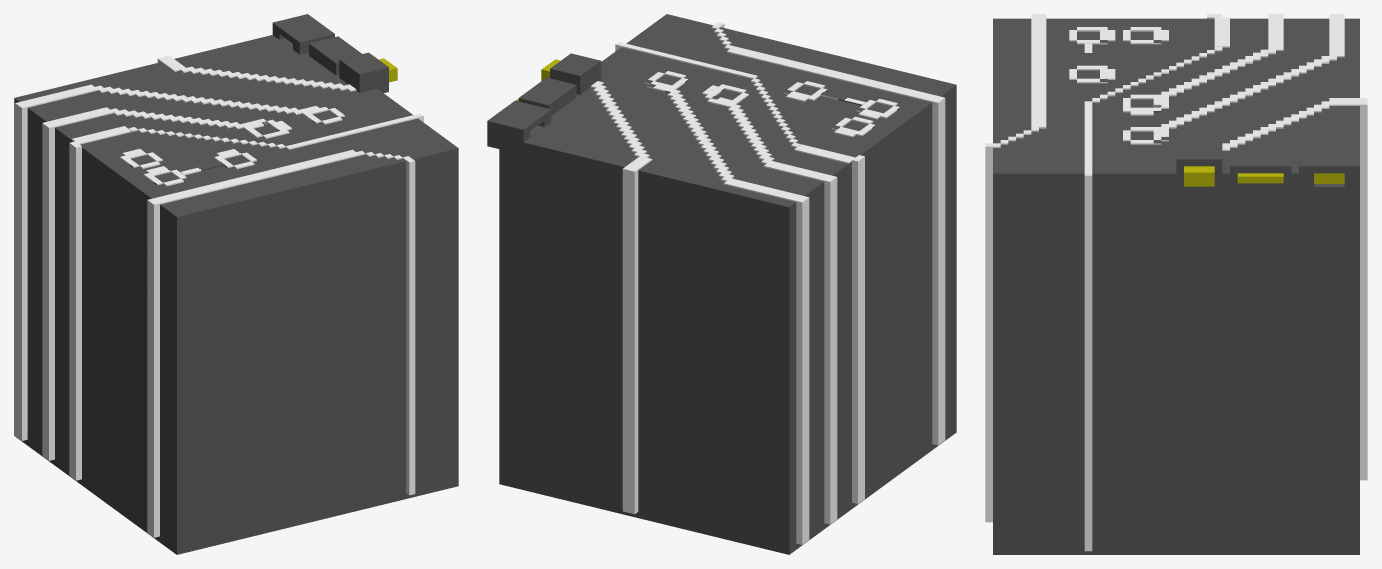
File: tutorialStage.fbx
The picture shows the model from 3 angles, left to right: view 1: azimuth 30°, elevation 25°; view 2: azimuth 150°, elevation 25°; view 3: azimuth 270°, elevation 25°; orthographic projection. The views are drawn at different scales.
Parts seen in each view (by area): view 1: cube, cube_195, cube_193, cube_194, cube_197, cube_191, cube_147, cube_1, cube_3, cube_5, cube_154, cube_101; view 2: cube, cube_190, cube_194, cube_197, cube_193, cube_195, cube_147, cube_1, cube_3, cube_7, cube_5, cube_154; view 3: cube, cube_192, cube_190, cube_191, cube_3, cube_147, cube_1, cube_5, cube_2, cube_154, cube_7, cube_8 (+4 smaller).
Boxes of the visible parts, <box> form: cube: <box>14,35,458,554</box>; cube_195: <box>69,141,81,480</box>; cube_193: <box>15,101,27,440</box>; cube_194: <box>42,121,54,460</box>; cube_197: <box>147,198,159,537</box>; cube_191: <box>406,158,415,495</box>; cube_147: <box>153,149,359,204</box>; cube_1: <box>339,52,388,92</box>; cube_3: <box>309,36,361,75</box>; cube_5: <box>276,16,330,45</box>; cube_154: <box>285,115,417,149</box>; cube_101: <box>21,87,92,107</box>; cube: <box>499,14,956,554</box>; cube_190: <box>622,166,638,514</box>; cube_194: <box>824,175,837,524</box>; cube_197: <box>932,96,945,445</box>; cube_193: <box>796,196,809,544</box>; cube_195: <box>852,155,864,503</box>; cube_147: <box>727,46,938,102</box>; cube_1: <box>550,53,601,94</box>; cube_3: <box>518,77,576,115</box>; cube_7: <box>487,116,530,154</box>; cube_5: <box>491,103,547,133</box>; cube_154: <box>621,43,757,79</box>; cube: <box>993,18,1359,554</box>; cube_192: <box>1084,172,1092,551</box>; cube_190: <box>1360,98,1367,480</box>; cube_191: <box>985,143,992,522</box>; cube_3: <box>1230,150,1291,186</box>; cube_147: <box>1031,17,1046,128</box>; cube_1: <box>1176,143,1222,186</box>; cube_5: <box>1306,147,1352,173</box>; cube_2: <box>1184,166,1214,186</box>; cube_154: <box>1084,101,1092,172</box>; cube_7: <box>1344,147,1359,193</box>; cube_8: <box>1299,147,1313,193</box>.
Bounding box in the file's own units: 331 × 362 × 312.
Materials: 1 (1 with a texture image).
